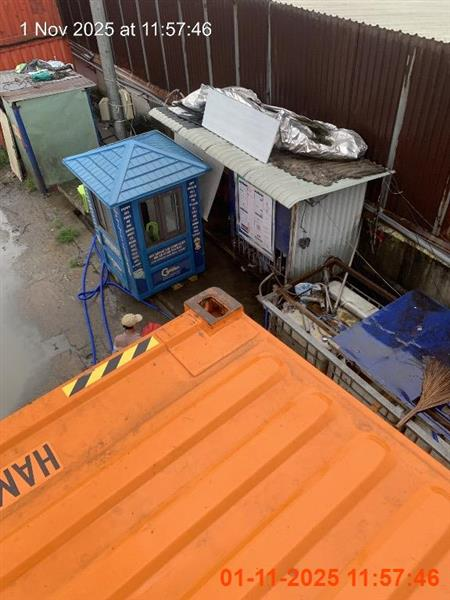crack: (0, 285, 449, 599)
